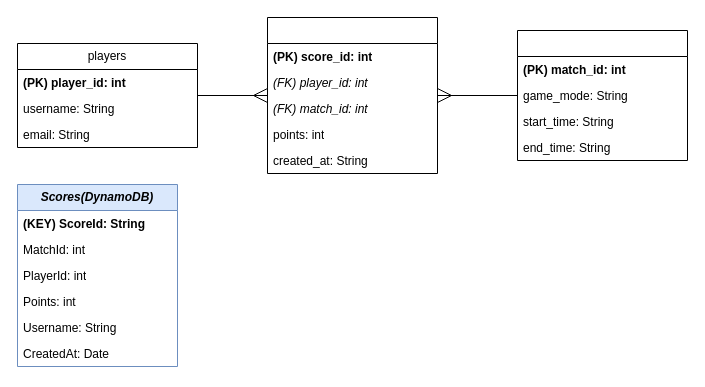
Image size: 705x387. Some labels were removed from this diagram. Here are the shapes that lost their labels. From the top down, the box of each, then its label:
(266, 16, 438, 174): scores
(516, 30, 688, 160): matches
